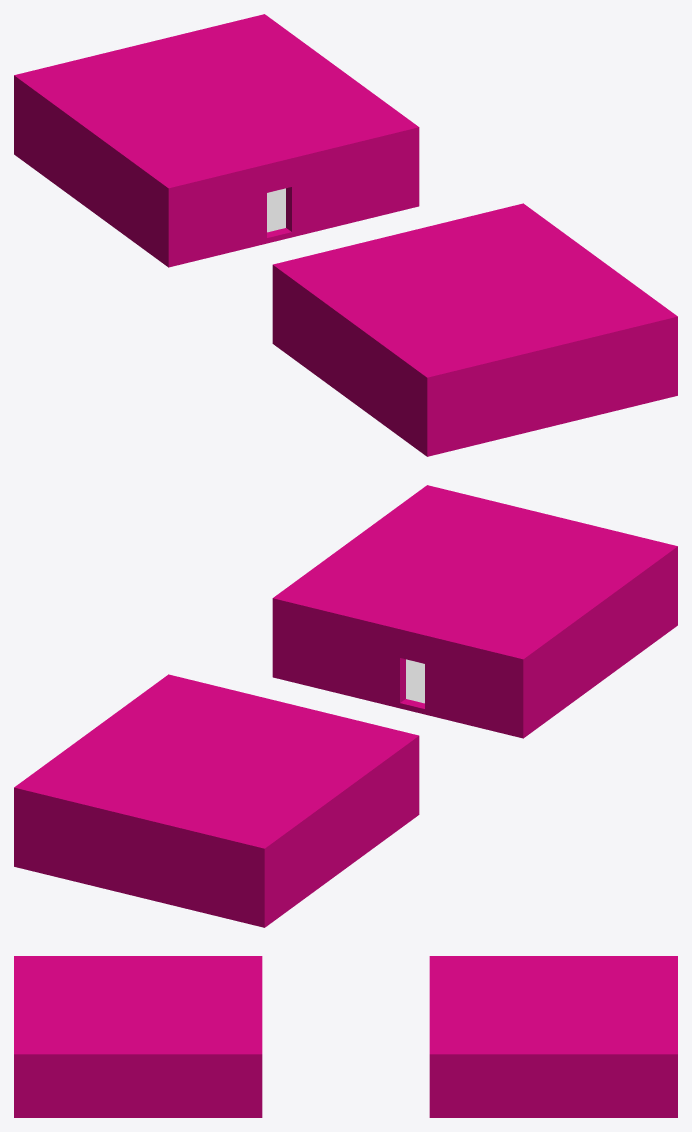
File: SecondFloorRestRooms.fbx
3 views of the same model, one above another, from view 1: azimuth 30°, elevation 25°; view 2: azimuth 150°, elevation 25°; view 3: azimuth 270°, elevation 25° (orthographic). The views are drawn at different scales.
Visible parts, largest first — view 1: Cube.018; view 2: Cube.018; view 3: Cube.018.
Boxes of the visible parts, left/top/right/bottom form: Cube.018: left=14, top=14, right=677, bottom=456; Cube.018: left=14, top=485, right=677, bottom=927; Cube.018: left=14, top=956, right=677, bottom=1117.
Bounding box in the file's own units: 1386 × 418 × 3956.
